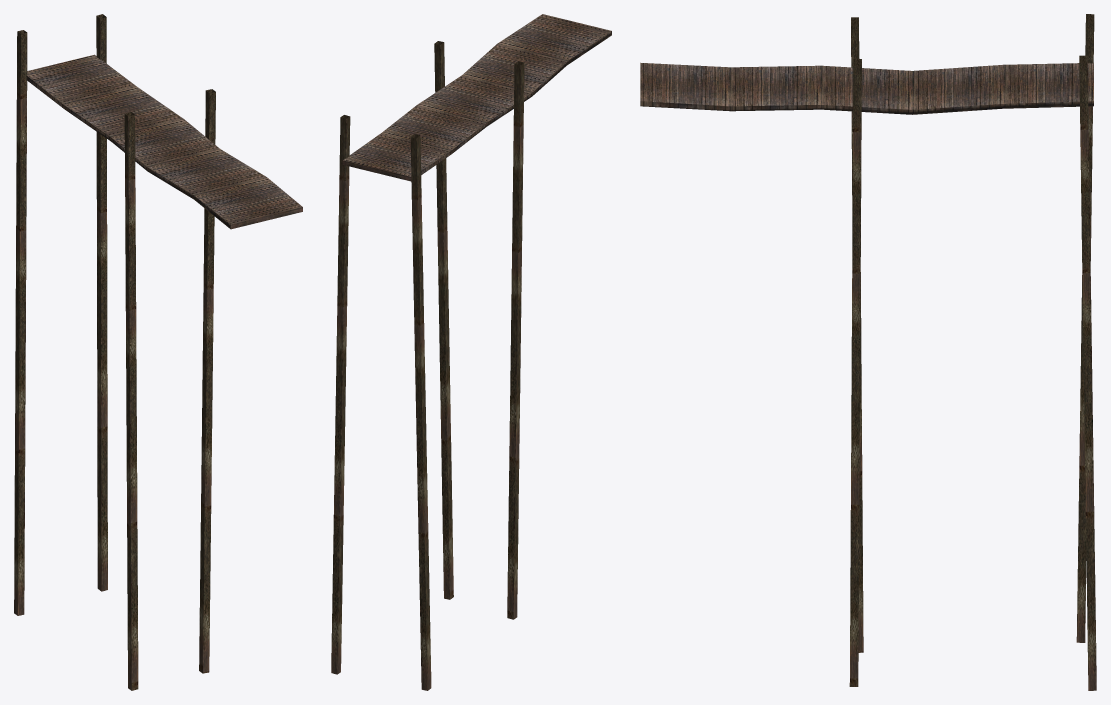
The model's file is Pwalk01B.glb.
The picture shows the model from 3 angles, left to right: view 1: azimuth 30°, elevation 25°; view 2: azimuth 150°, elevation 25°; view 3: azimuth 270°, elevation 25°; orthographic projection. The views are drawn at different scales.
Parts seen in each view (by area): view 1: _Pwalk01B; view 2: _Pwalk01B; view 3: _Pwalk01B.
Part boxes in pixels (left/top/right/bottom): _Pwalk01B: left=14, top=14, right=302, bottom=690; _Pwalk01B: left=331, top=14, right=611, bottom=690; _Pwalk01B: left=640, top=14, right=1096, bottom=690.
Size of the model in its own units: 3.98 by 23.09 by 15.1.
Materials: 3 (3 with a texture image).
